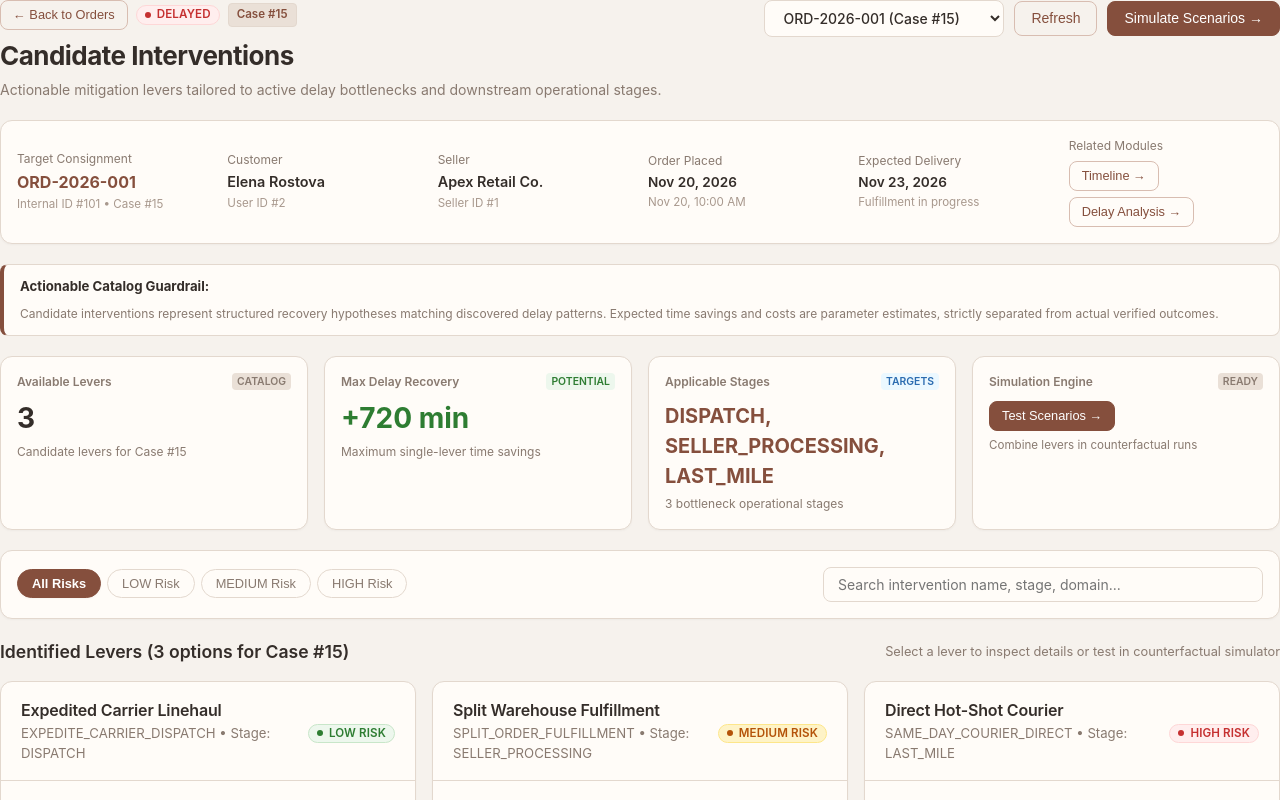
InterventionsPage Component › filters candidates by risk level pills
Check: the heading "Expedited Carrier Linehaul" is shown, box [21, 700, 222, 720]
# Click LOW Risk filter
Click the button "LOW Risk" at (151, 583), box [107, 569, 195, 598]
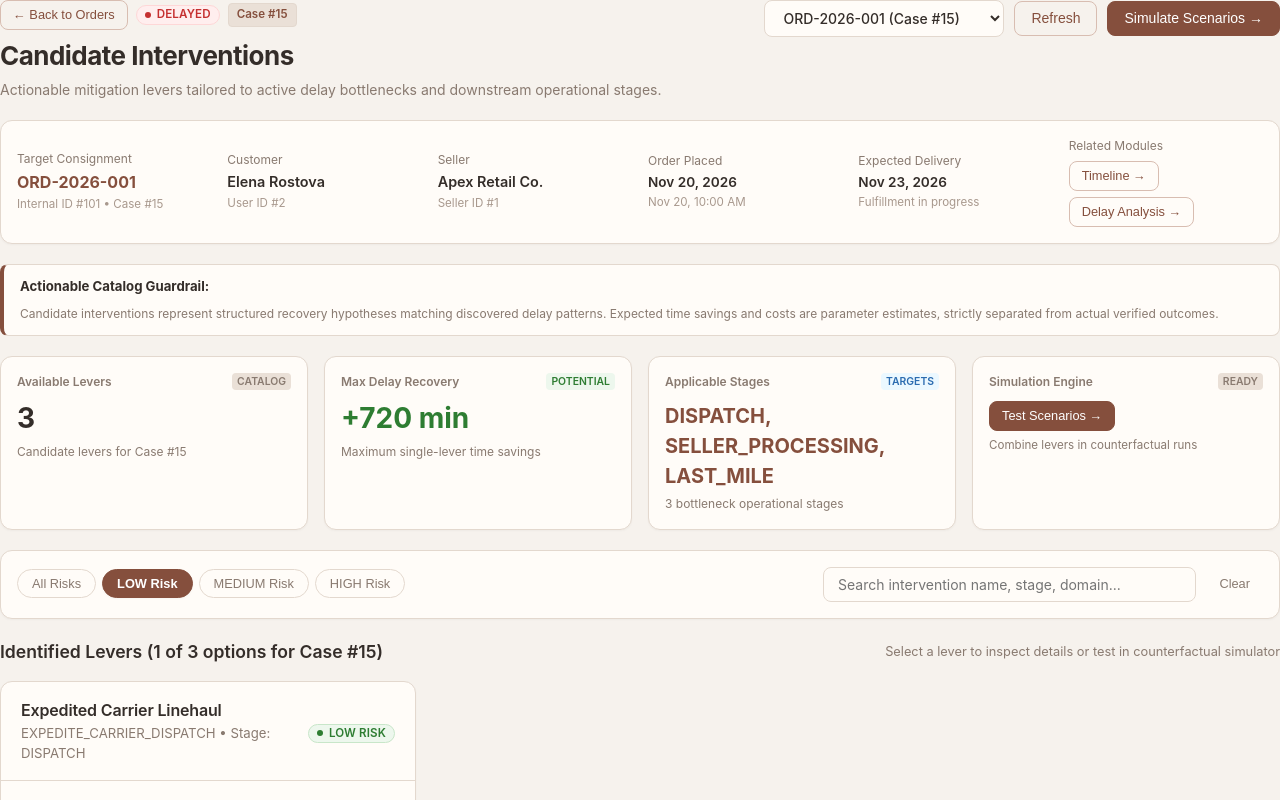
Check: the heading "Expedited Carrier Linehaul" is shown, box [21, 700, 222, 720]
Check: the heading "Split Warehouse Fulfillment" is gone
Check: the heading "Direct Hot-Shot Courier" is gone
# Click All Risks filter to reset
Click the button "All Risks" at (57, 583), box [17, 569, 96, 598]
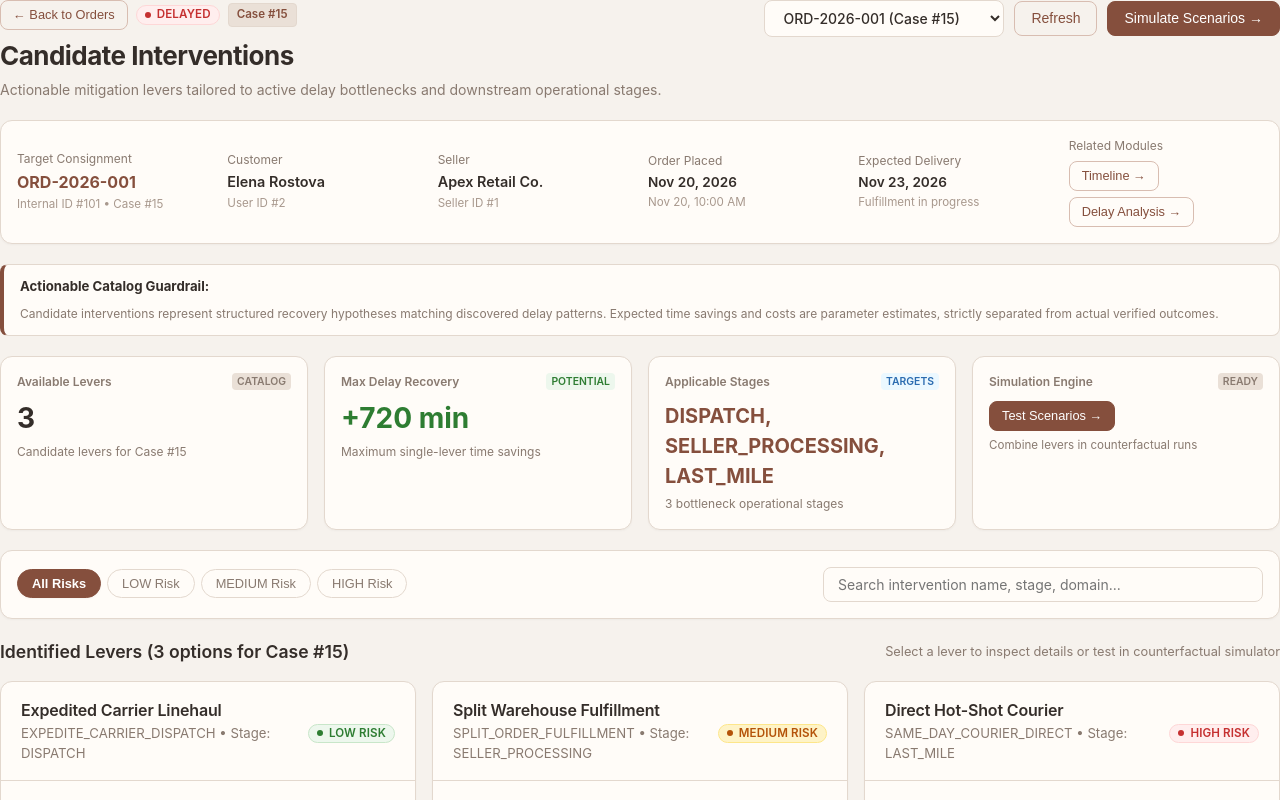
Check: the heading "Split Warehouse Fulfillment" is shown, box [453, 700, 660, 720]
